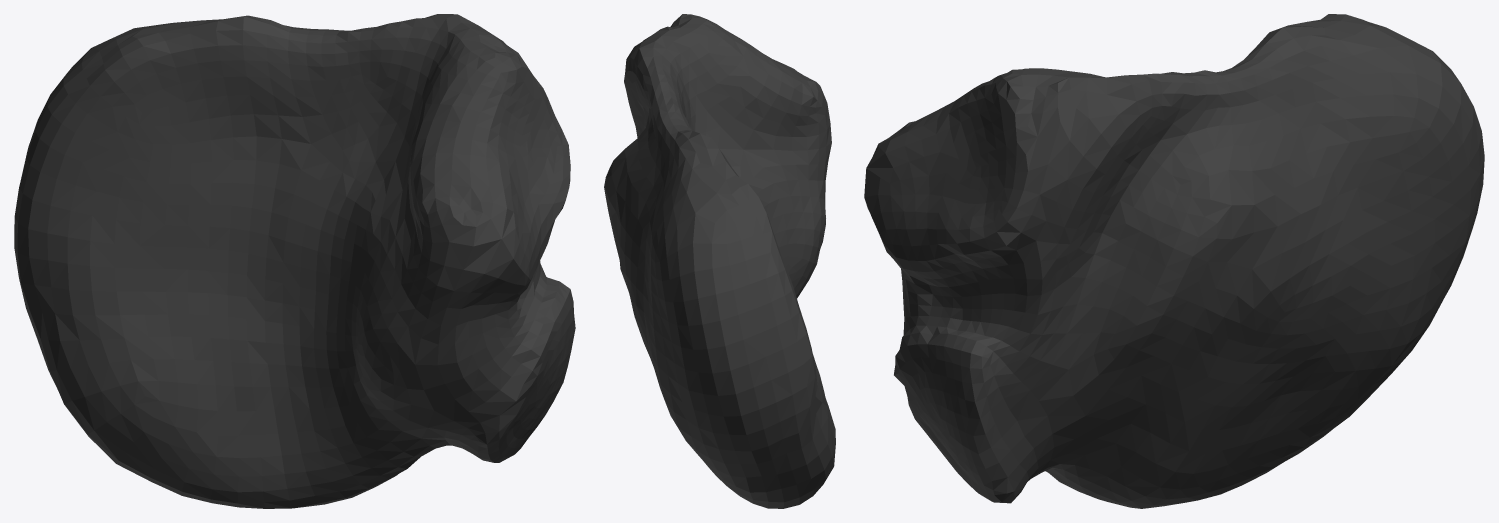
File: Accessory_carpal.glb
3 renders of one model, left to right at view 1: azimuth 30°, elevation 25°; view 2: azimuth 150°, elevation 25°; view 3: azimuth 270°, elevation 25°, orthographic. The views are drawn at different scales.
Parts seen in each view (by area): view 1: Accessory_carpal; view 2: Accessory_carpal; view 3: Accessory_carpal.
Boxes of the visible parts, x1,y1,x2,y2 form: Accessory_carpal: (14,14,575,508); Accessory_carpal: (604,14,835,508); Accessory_carpal: (864,14,1484,508).
Size of the model in its own units: 35.08 by 41.7 by 46.22.
1 material, 1 textured.
